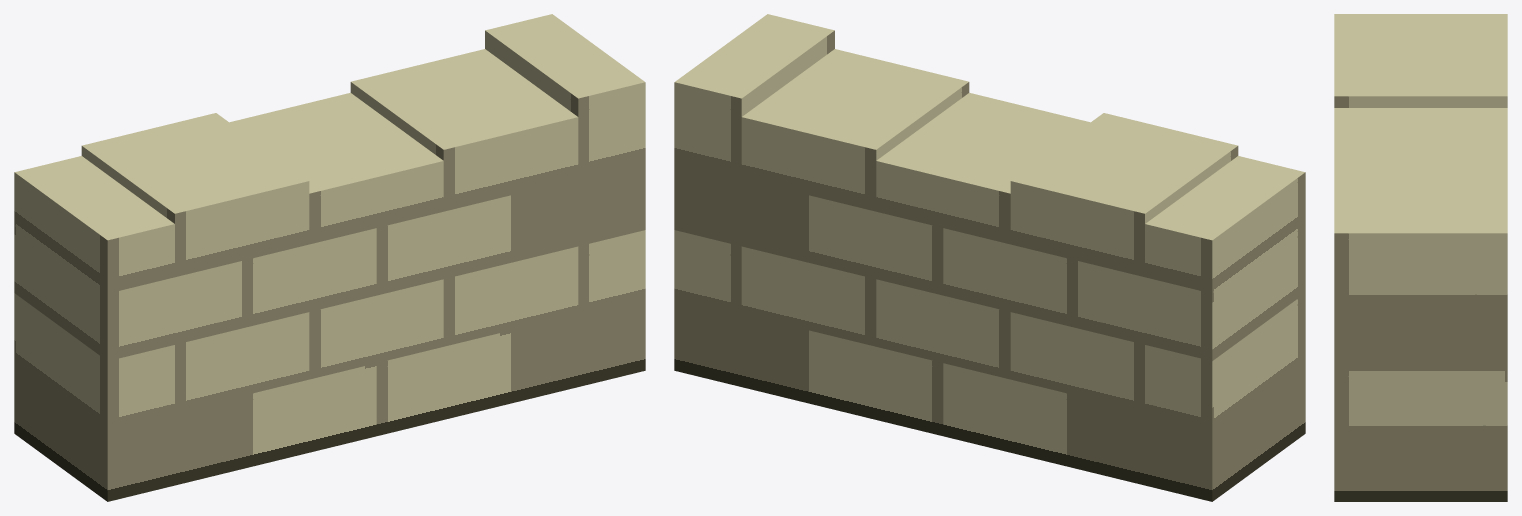
3 renders of one model, left to right at view 1: azimuth 30°, elevation 25°; view 2: azimuth 150°, elevation 25°; view 3: azimuth 270°, elevation 25°, orthographic. The views are drawn at different scales.
Visible parts, largest first — view 1: prop; view 2: prop; view 3: prop.
Part boxes in pixels (left/top/right/bottom): prop: left=14, top=14, right=645, bottom=501; prop: left=674, top=14, right=1305, bottom=501; prop: left=1334, top=14, right=1507, bottom=501.
Size of the model in its own units: 1 by 0.5127 by 0.3.
Materials: 1 (1 with a texture image).
